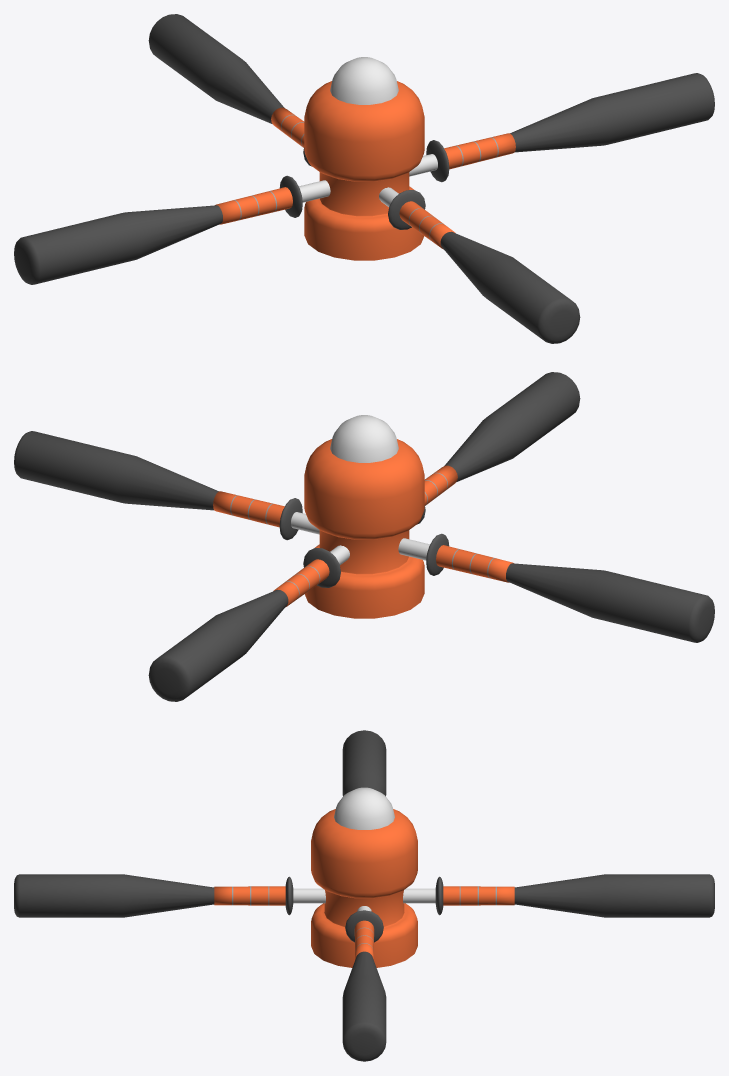
The model's file is Spinner Bat A.fbx.
3 views of the same model, one above another, from view 1: azimuth 30°, elevation 25°; view 2: azimuth 150°, elevation 25°; view 3: azimuth 270°, elevation 25° (orthographic). The views are drawn at different scales.
Parts seen in each view (by area): view 1: Spinner A; view 2: Spinner A; view 3: Spinner A.
Boxes of the visible parts, box(x1,y1,x2,y2) form: Spinner A: box(14, 14, 714, 343); Spinner A: box(14, 372, 714, 701); Spinner A: box(14, 730, 714, 1061).
Size of the model in its own units: 556 by 136 by 556.
